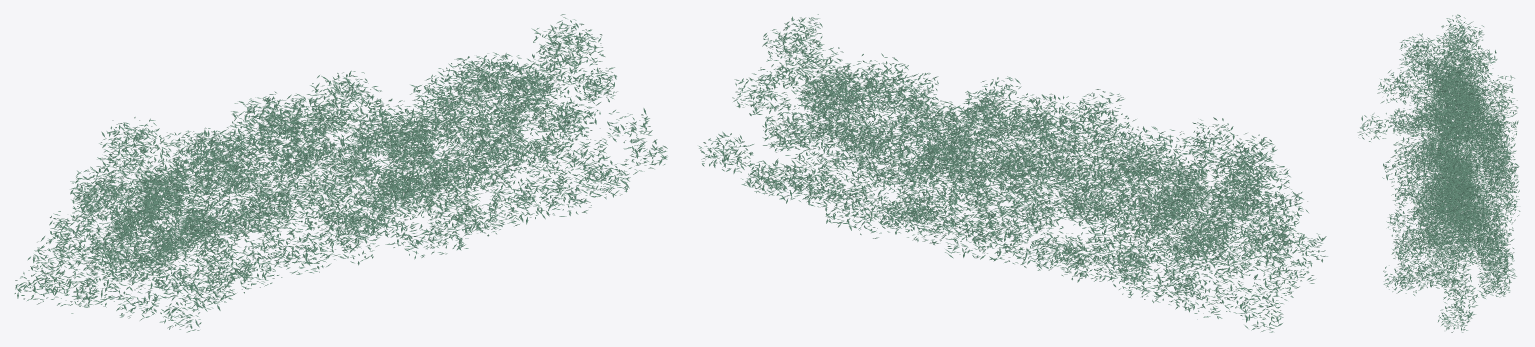
Rendered from xiyuan-vegetation-28-near.glb.
3 renders of one model, left to right at view 1: azimuth 30°, elevation 25°; view 2: azimuth 150°, elevation 25°; view 3: azimuth 270°, elevation 25°, orthographic. The views are drawn at different scales.
Visible parts, largest first — view 1: vegetation cedar leaves.003; view 2: vegetation cedar leaves.003; view 3: vegetation cedar leaves.003.
Boxes of the visible parts, bbox=[...] form: vegetation cedar leaves.003: bbox=[14, 14, 667, 332]; vegetation cedar leaves.003: bbox=[699, 14, 1327, 332]; vegetation cedar leaves.003: bbox=[1357, 14, 1520, 332].
Size of the model in its own units: 38.77 by 11.12 by 11.77.
